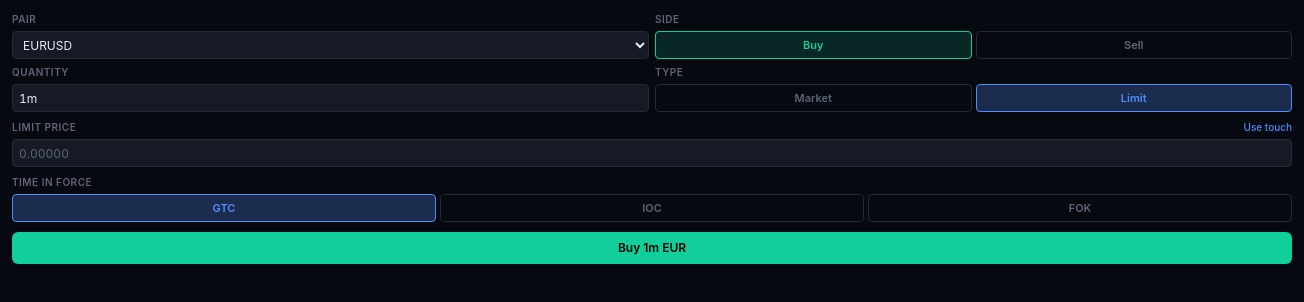
Test case: OrderTicket › blocks a limit priced a slipped-decimal away from the market
The image size is (1304, 302).
# 842 against a 1.0842 mid: the classic fat finger, ~90,000 bps out.
Step 1. Type "10.842" into the field with test id "order-limit" → (652, 153), box [12,139,1292,167]
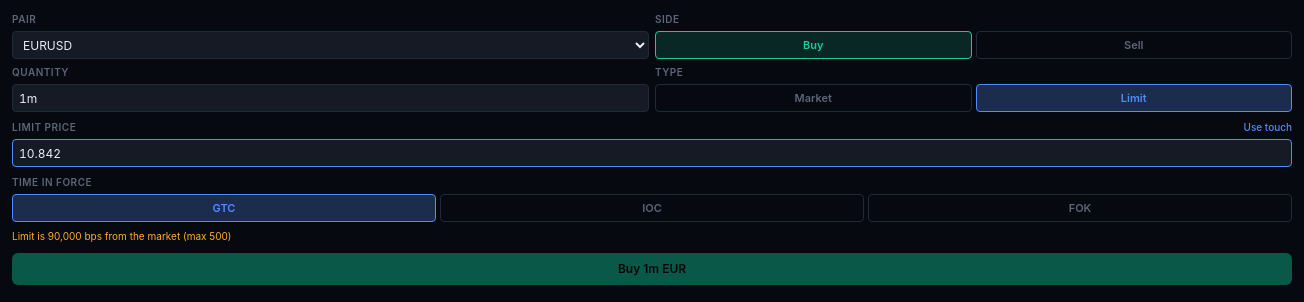
Expected: the message with test id "order-entitlement-block" shows "bps from the market", [12,230,232,242]
Expected: the button with test id "order-submit" is disabled, [12,252,1292,284]
